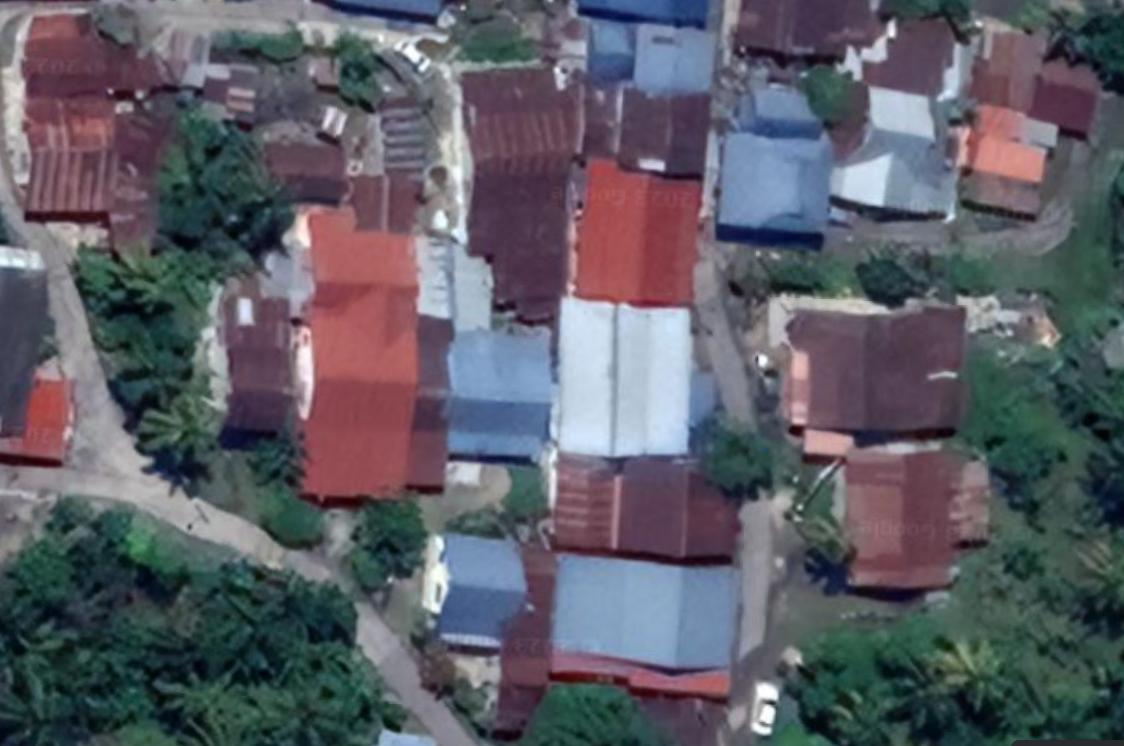building: (410, 527, 751, 739), (12, 0, 192, 290), (287, 207, 420, 510), (442, 54, 581, 326), (759, 291, 973, 464), (952, 17, 1111, 232), (548, 286, 728, 456), (836, 8, 971, 233), (832, 438, 1003, 602), (706, 68, 839, 250), (573, 149, 709, 301), (538, 453, 751, 549), (208, 261, 297, 454), (448, 319, 556, 468), (570, 74, 717, 176), (576, 14, 730, 99), (409, 309, 452, 500), (249, 129, 352, 201)
